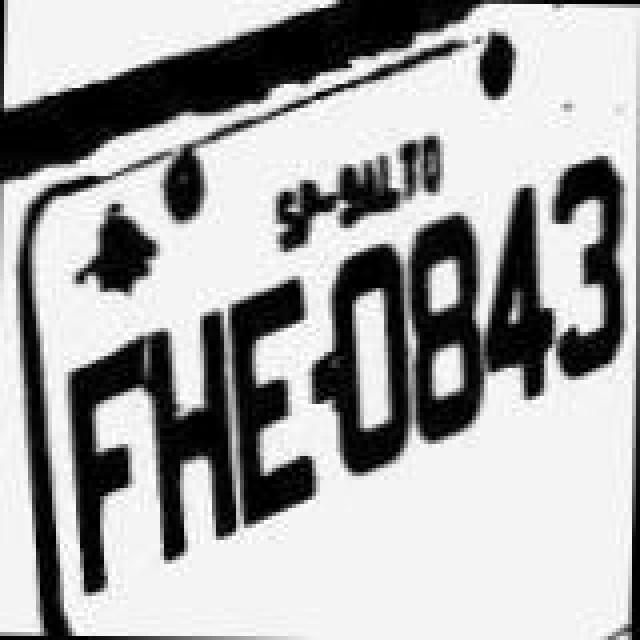3: (550, 152, 634, 376)
4: (478, 182, 558, 410)
8: (400, 212, 492, 448)
E: (222, 270, 322, 538)
F: (52, 330, 148, 598)
H: (134, 304, 242, 572)
O: (330, 240, 418, 480)
